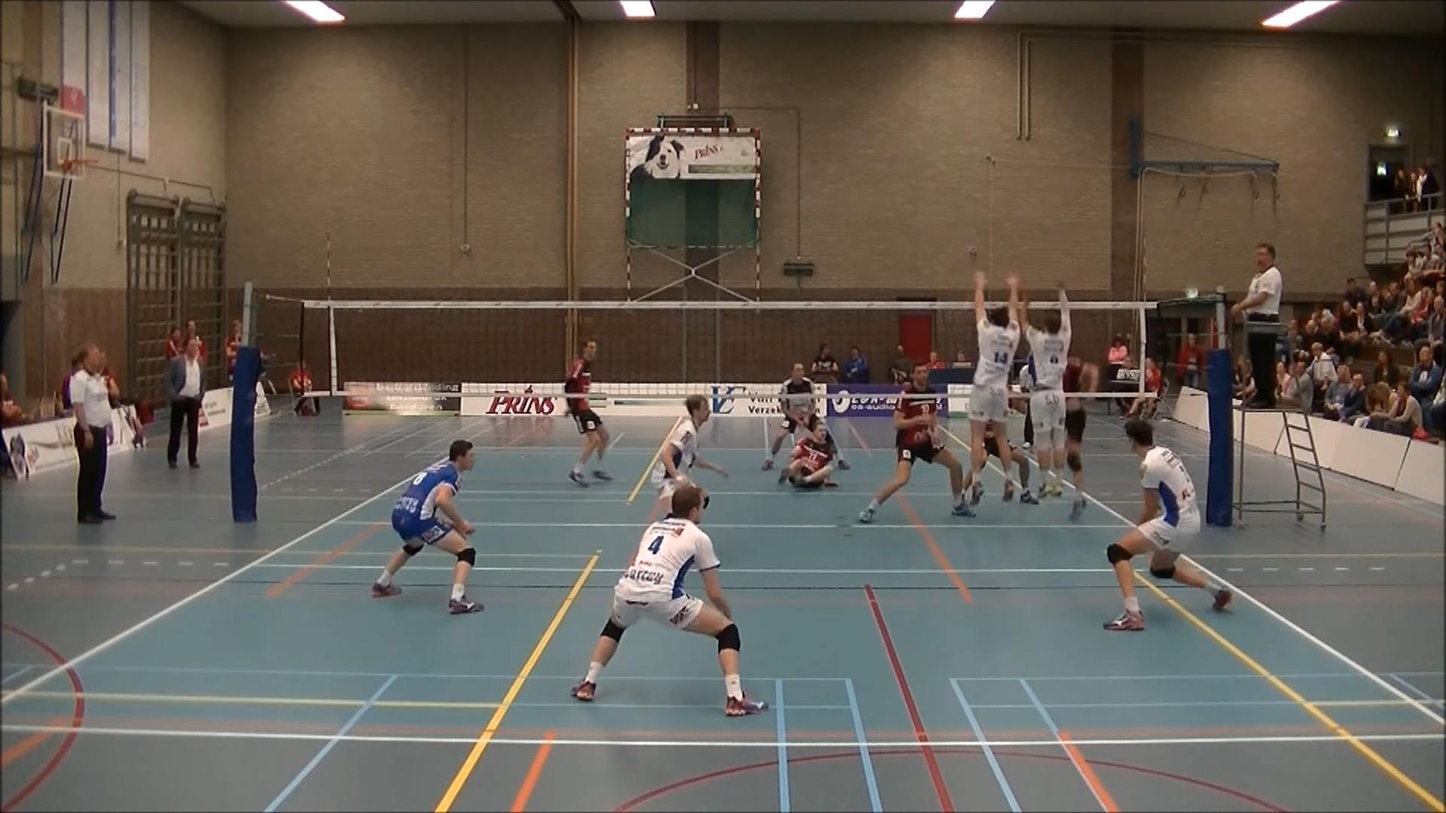muro: (968, 268, 1023, 514), (1018, 282, 1077, 501)
